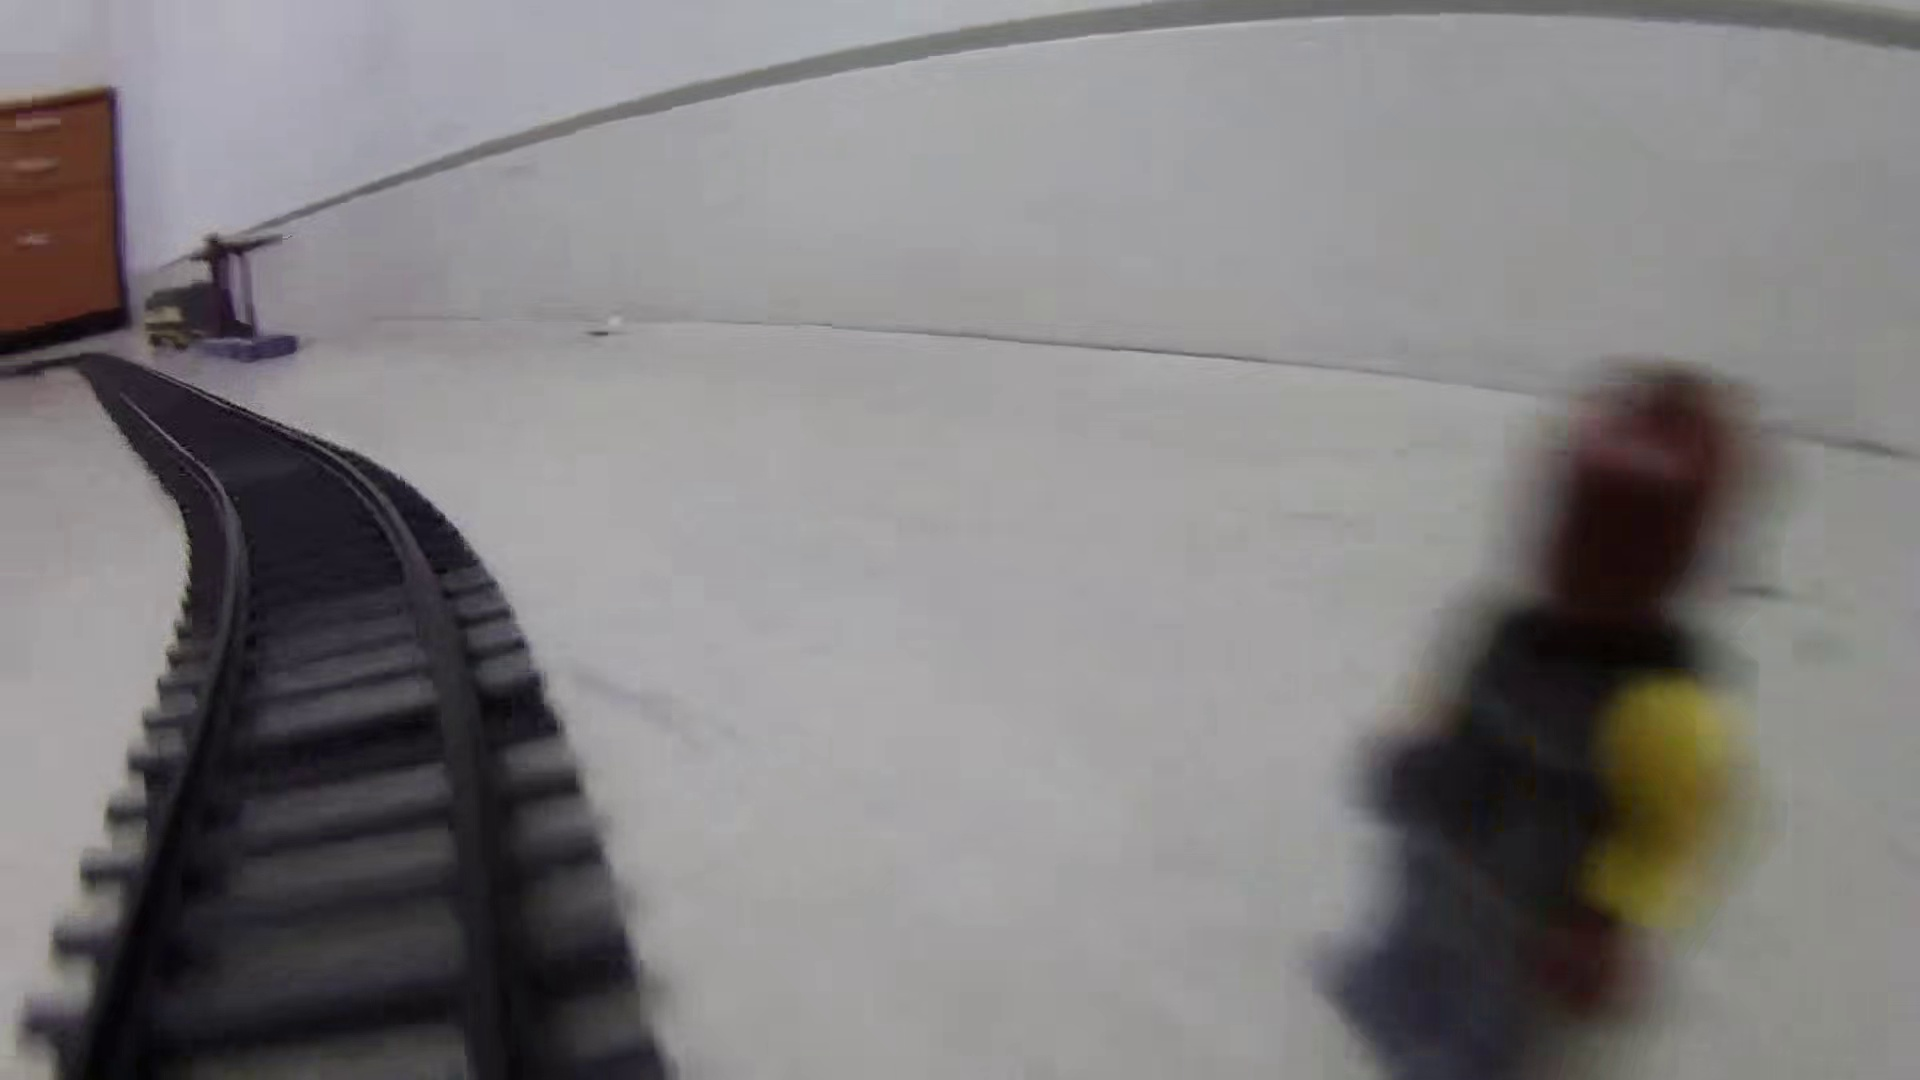people: (1292, 357, 1778, 1080)
